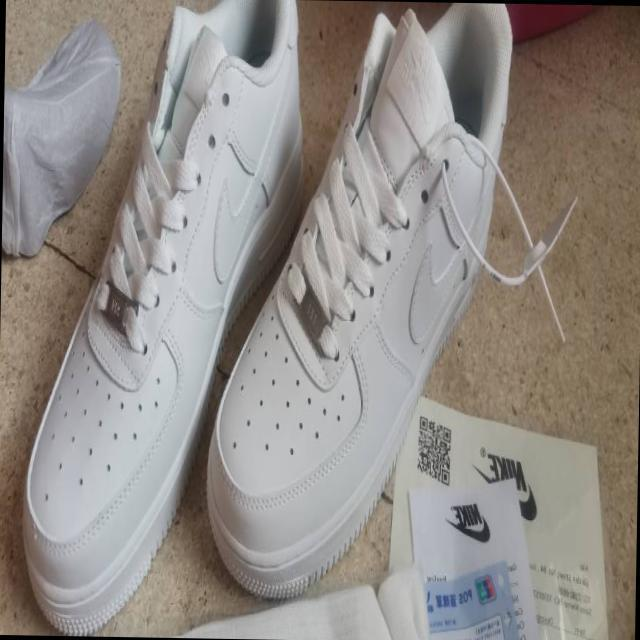nike fake air force: (204, 0, 515, 611), (19, 0, 309, 639)
